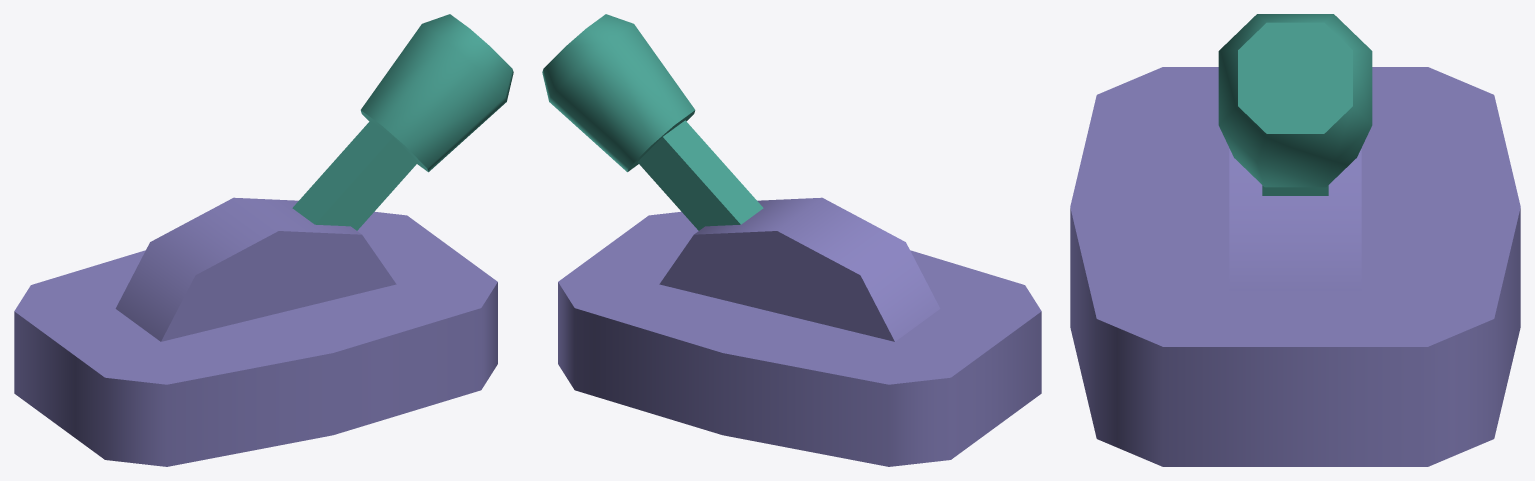
File: Lever.glb
3 renders of one model, left to right at view 1: azimuth 30°, elevation 25°; view 2: azimuth 150°, elevation 25°; view 3: azimuth 270°, elevation 25°, orthographic. The views are drawn at different scales.
Visible parts, largest first — view 1: lever-single, handle; view 2: lever-single, handle; view 3: lever-single, handle.
Boxes of the visible parts, x1,y1,x2,y2 form: lever-single: (14, 197, 497, 466); handle: (292, 14, 513, 230); lever-single: (558, 197, 1041, 466); handle: (542, 14, 763, 230); lever-single: (1070, 67, 1520, 466); handle: (1218, 14, 1372, 195).
Size of the model in its own units: 0.5652 by 0.3744 by 0.34.
